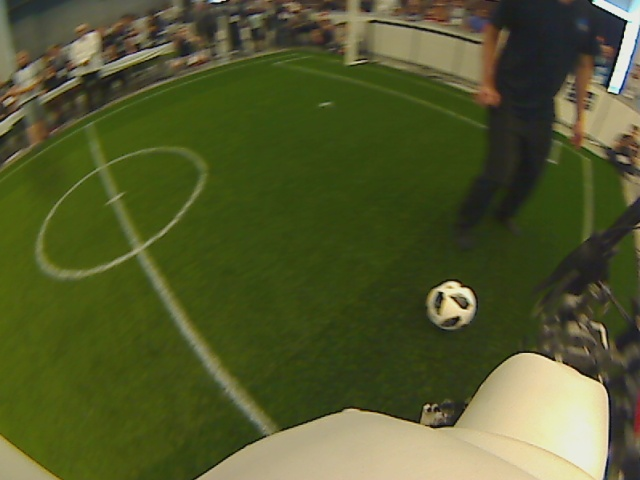ball: (425, 280, 478, 329)
